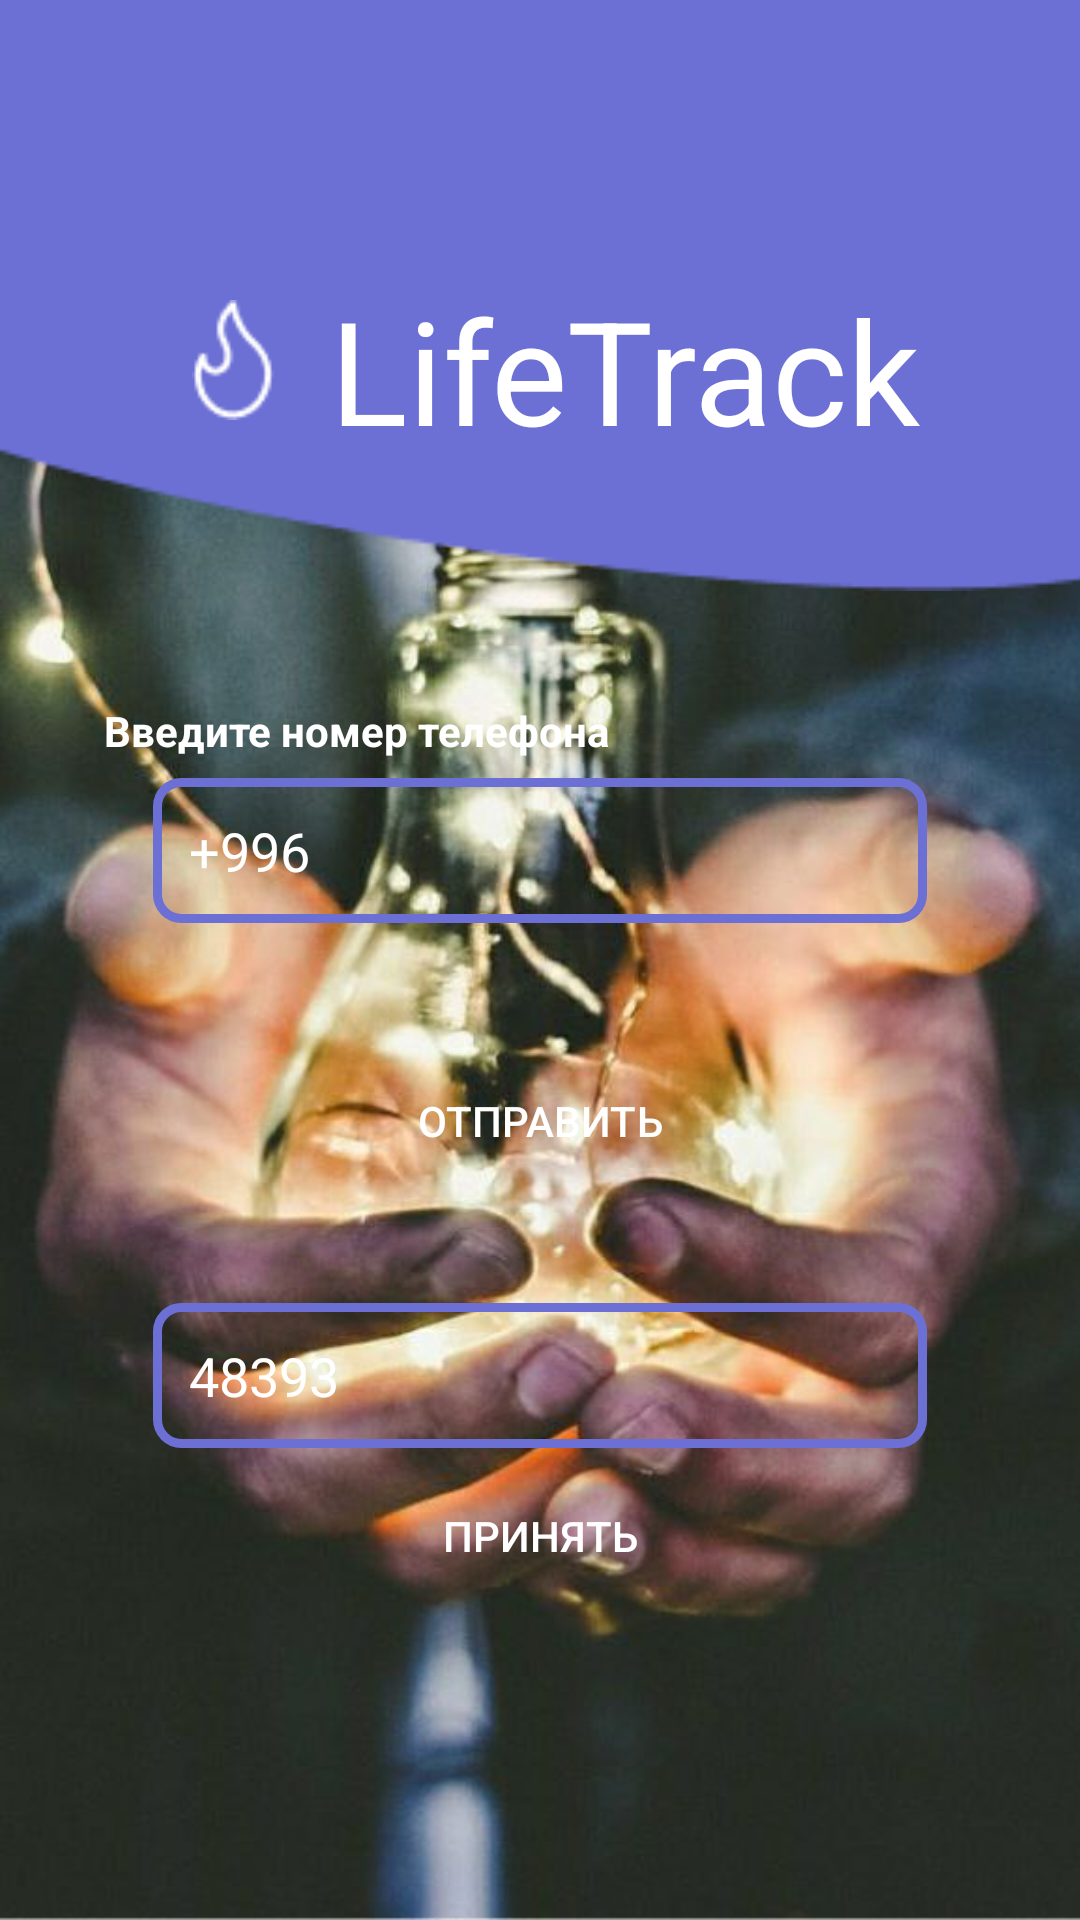

Screen size 1080*1920. Icon name, then its center in pixels as (x,y):
fire: (233,360)
